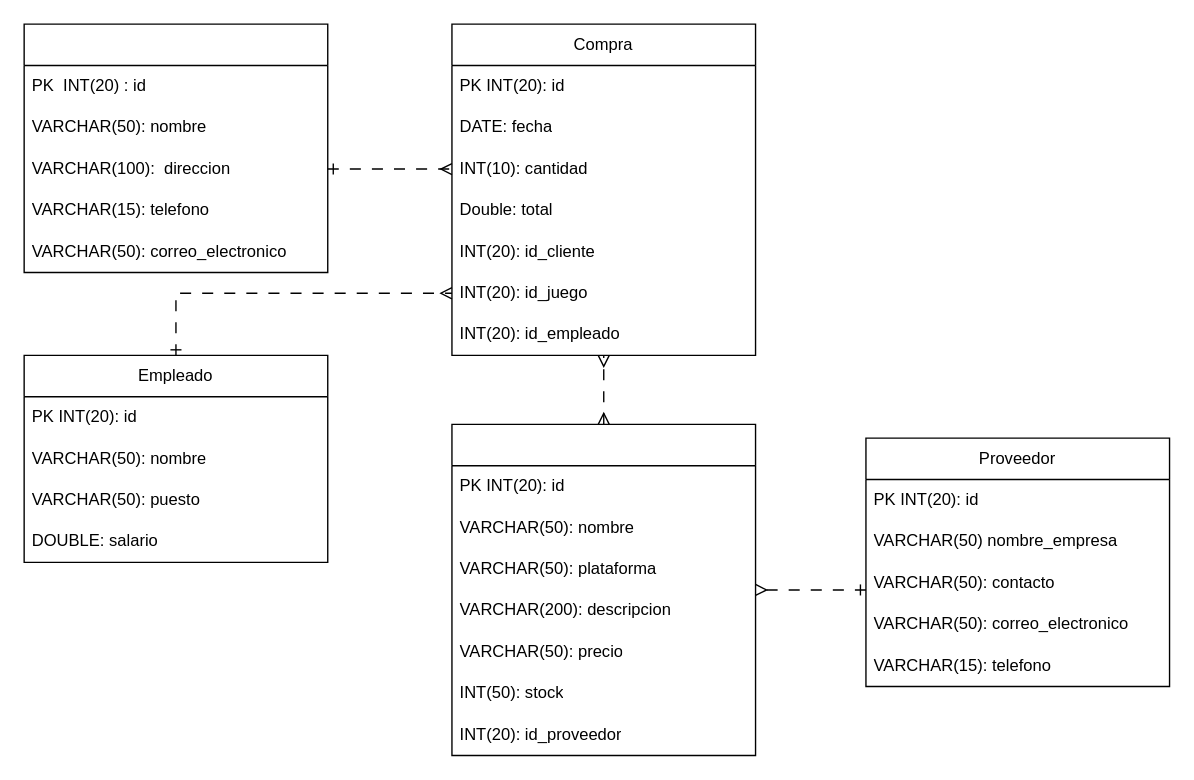
This 1194x780 diagram has some shape labels left out. Each missing label, with the box of its shape:
Cliente: (23, 23, 328, 273)
Videojuego: (451, 423, 756, 756)
